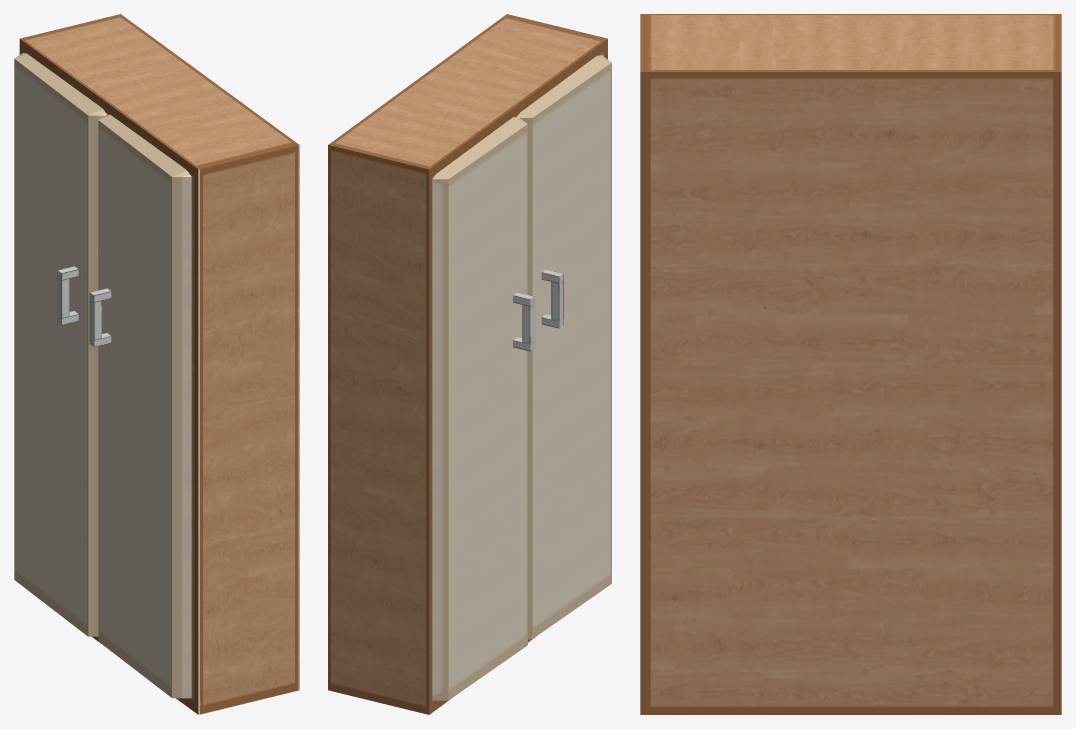
File: Wardrobe_Sealed.fbx
3 renders of one model, left to right at view 1: azimuth 30°, elevation 25°; view 2: azimuth 150°, elevation 25°; view 3: azimuth 270°, elevation 25°, orthographic. The views are drawn at different scales.
Parts seen in each view (by area): view 1: Wardrobe_Sealed; view 2: Wardrobe_Sealed; view 3: Wardrobe_Sealed.
Part boxes in pixels (left/top/right/bottom): Wardrobe_Sealed: left=14, top=14, right=299, bottom=714; Wardrobe_Sealed: left=328, top=14, right=611, bottom=714; Wardrobe_Sealed: left=640, top=14, right=1061, bottom=714.
Size of the model in its own units: 55.34 by 218 by 129.
